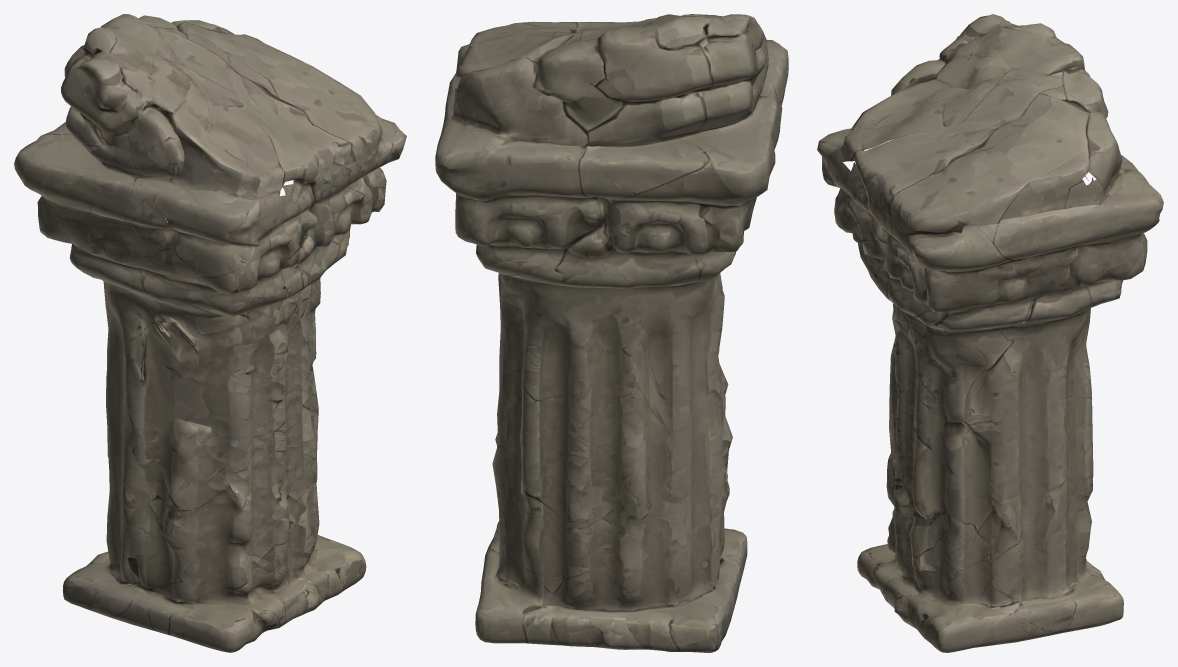
Rendered from stone column 3d model.glb.
3 views of the same model, side by side, from view 1: azimuth 30°, elevation 25°; view 2: azimuth 150°, elevation 25°; view 3: azimuth 270°, elevation 25° (orthographic). The views are drawn at different scales.
Visible parts, largest first — view 1: tripo_node_67fa5a18; view 2: tripo_node_67fa5a18; view 3: tripo_node_67fa5a18.
Boxes of the visible parts, <box> form: tripo_node_67fa5a18: <box>14,14,406,652</box>; tripo_node_67fa5a18: <box>435,14,788,652</box>; tripo_node_67fa5a18: <box>817,14,1163,652</box>.
Bounding box in the file's own units: 58.96 × 97.81 × 57.51.
1 material, 1 textured.
